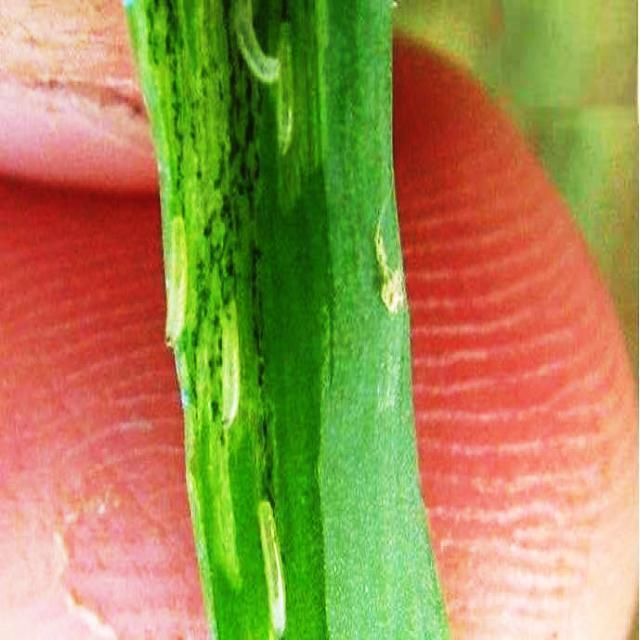whorl-maggot: (253, 489, 301, 635), (230, 3, 282, 95), (164, 211, 195, 365), (273, 19, 301, 157), (218, 280, 240, 435)
